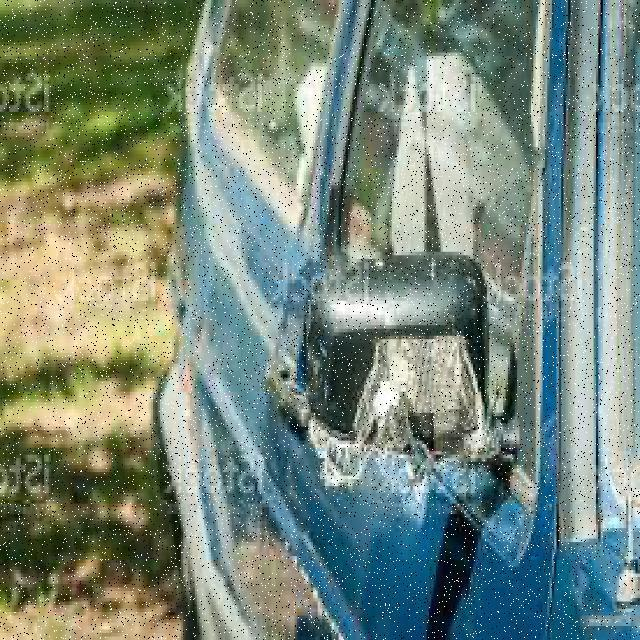Sidemirror-Damage: (286, 241, 500, 497)
